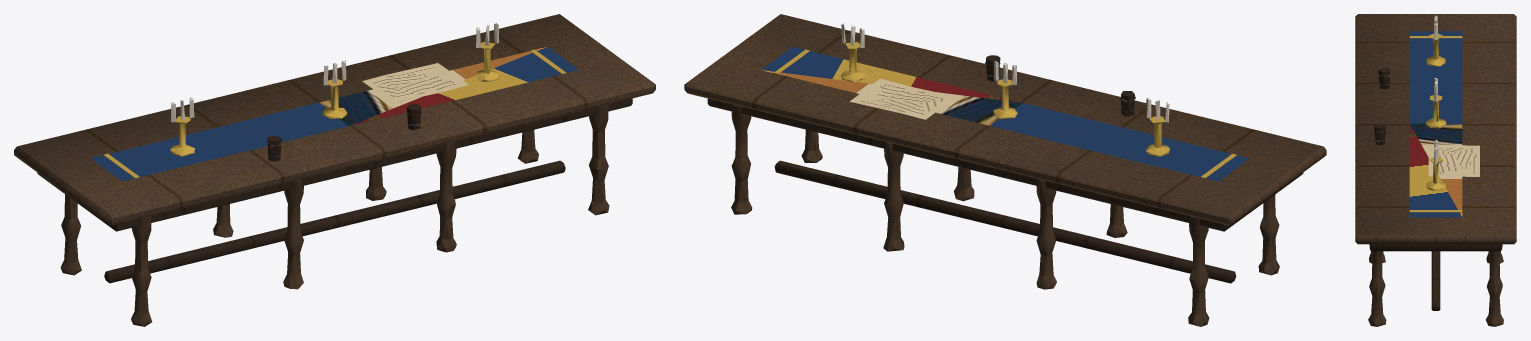
File: meeting_table_lod1.glb
The picture shows the model from 3 angles, left to right: view 1: azimuth 30°, elevation 25°; view 2: azimuth 150°, elevation 25°; view 3: azimuth 270°, elevation 25°; orthographic projection. The views are drawn at different scales.
Visible parts, largest first — view 1: meeting_table; view 2: meeting_table; view 3: meeting_table.
Part boxes in pixels (x1,y1,x2,y2): meeting_table: (14,14,655,326); meeting_table: (684,14,1326,326); meeting_table: (1355,14,1516,326).
Bounding box in the file's own units: 3.6 × 1.12 × 1.1.
1 material, 1 textured.
